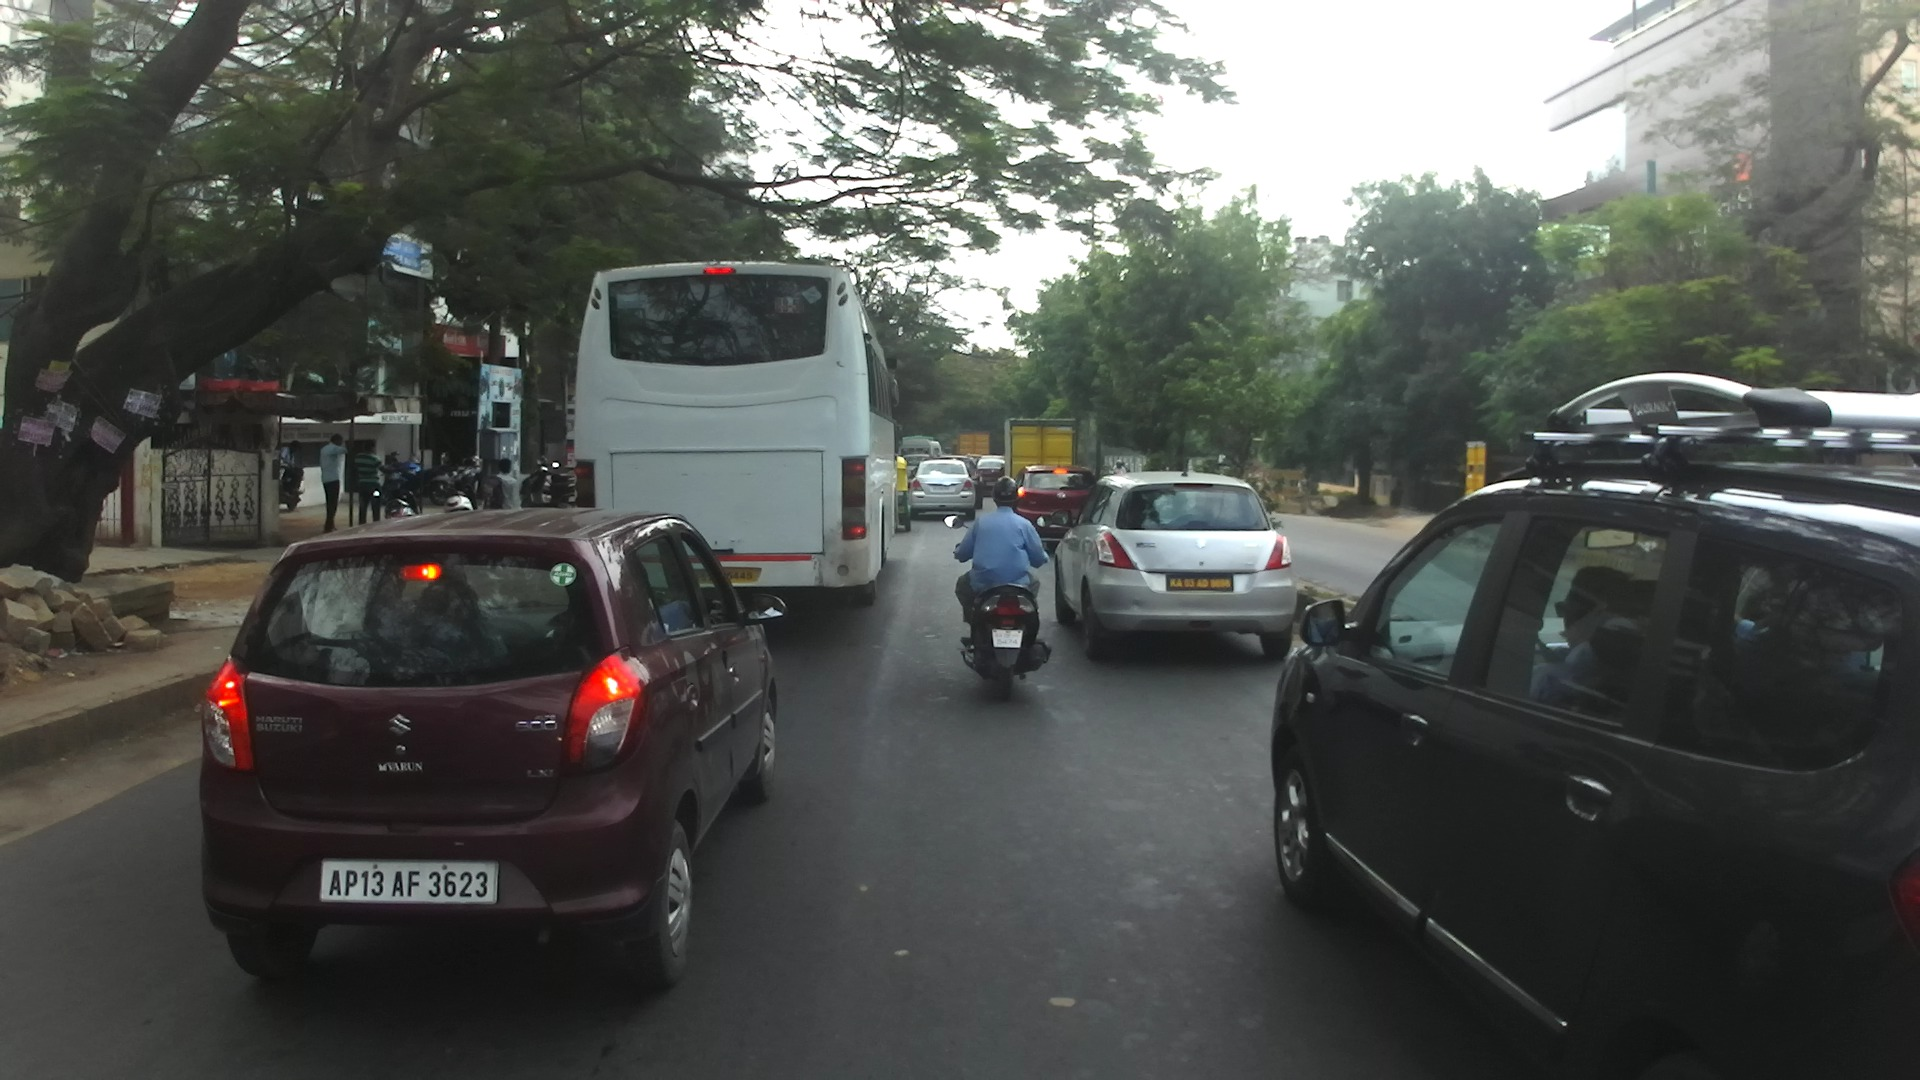autorickshaw: (896, 454, 913, 530)
bus: (572, 261, 902, 607), (899, 436, 932, 471), (932, 437, 941, 461)
car: (1268, 372, 1920, 1078), (195, 508, 787, 991), (1049, 470, 1298, 659), (1012, 465, 1100, 546), (907, 457, 977, 520), (942, 456, 982, 508), (974, 456, 1014, 498), (904, 454, 932, 477), (968, 452, 984, 473)
motorcycle: (943, 513, 1051, 701), (517, 456, 578, 506), (393, 456, 457, 503), (382, 466, 421, 520), (446, 457, 487, 501), (440, 473, 478, 515), (279, 460, 303, 512)
person: (351, 437, 393, 525), (316, 431, 351, 534), (487, 458, 522, 513)
rider: (952, 475, 1051, 659), (280, 437, 303, 494), (1111, 459, 1126, 484)
truck: (1003, 417, 1079, 494), (1465, 439, 1531, 497), (957, 428, 990, 466), (944, 444, 955, 456)
